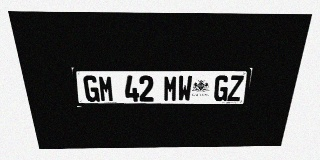2: (139, 75, 153, 102)
4: (124, 75, 139, 102)
G: (83, 75, 100, 102), (213, 75, 230, 101)
M: (98, 75, 114, 102), (163, 75, 178, 101)
W: (177, 75, 192, 101)
Z: (227, 75, 244, 101)
